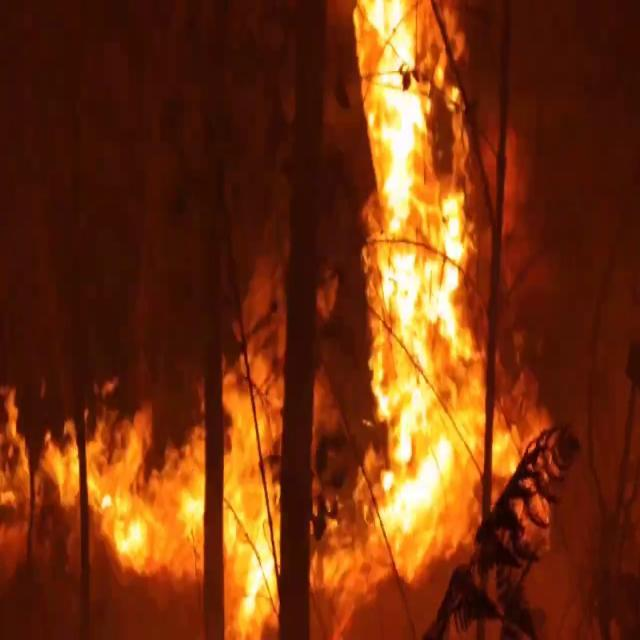Fire: (317, 2, 514, 620), (53, 322, 283, 624)
